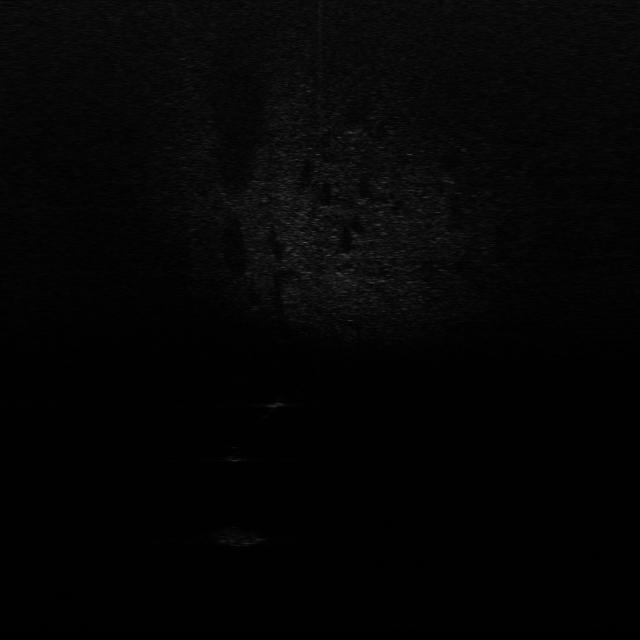ball: (224, 445, 247, 463)
circle cage: (216, 525, 273, 549)
human body: (262, 397, 290, 412)
